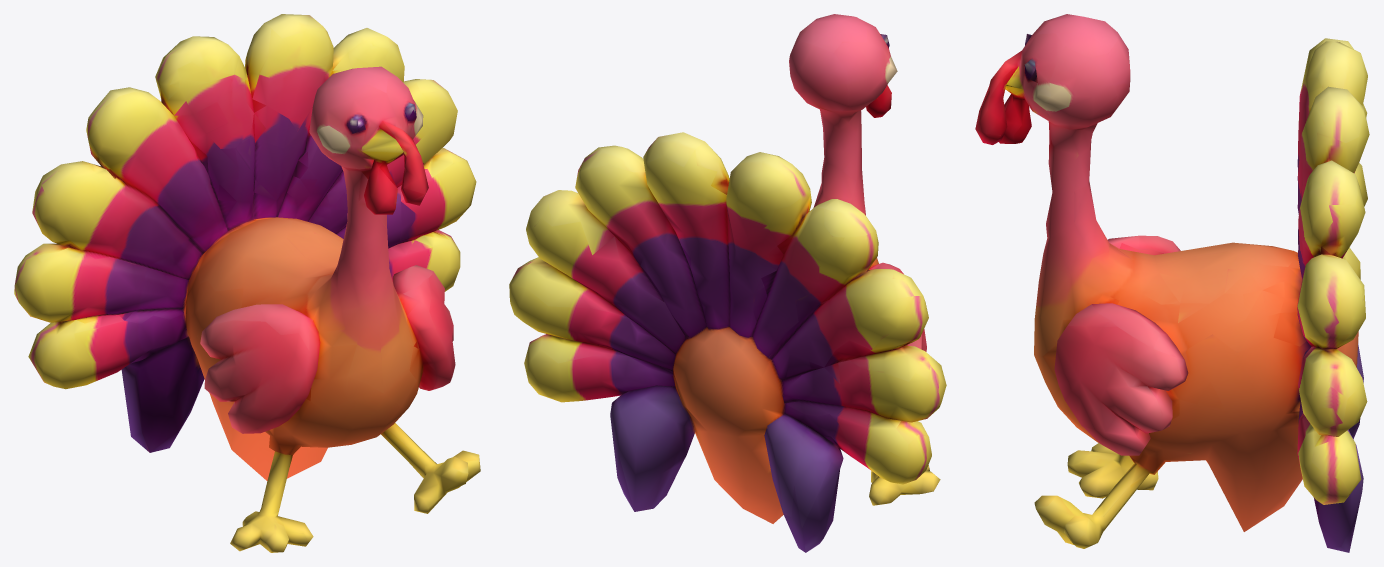
Rendered from tribal_turkey_3000.glb.
3 views of the same model, side by side, from view 1: azimuth 30°, elevation 25°; view 2: azimuth 150°, elevation 25°; view 3: azimuth 270°, elevation 25° (orthographic). The views are drawn at different scales.
Visible parts, largest first — view 1: node_0; view 2: node_0; view 3: node_0.
Boxes of the visible parts, left/top/right/bottom form: node_0: left=14, top=14, right=480, bottom=552; node_0: left=509, top=14, right=946, bottom=552; node_0: left=975, top=14, right=1369, bottom=552.
Size of the model in its own units: 1.03 by 1.02 by 0.7133.
1 material, 1 textured.
